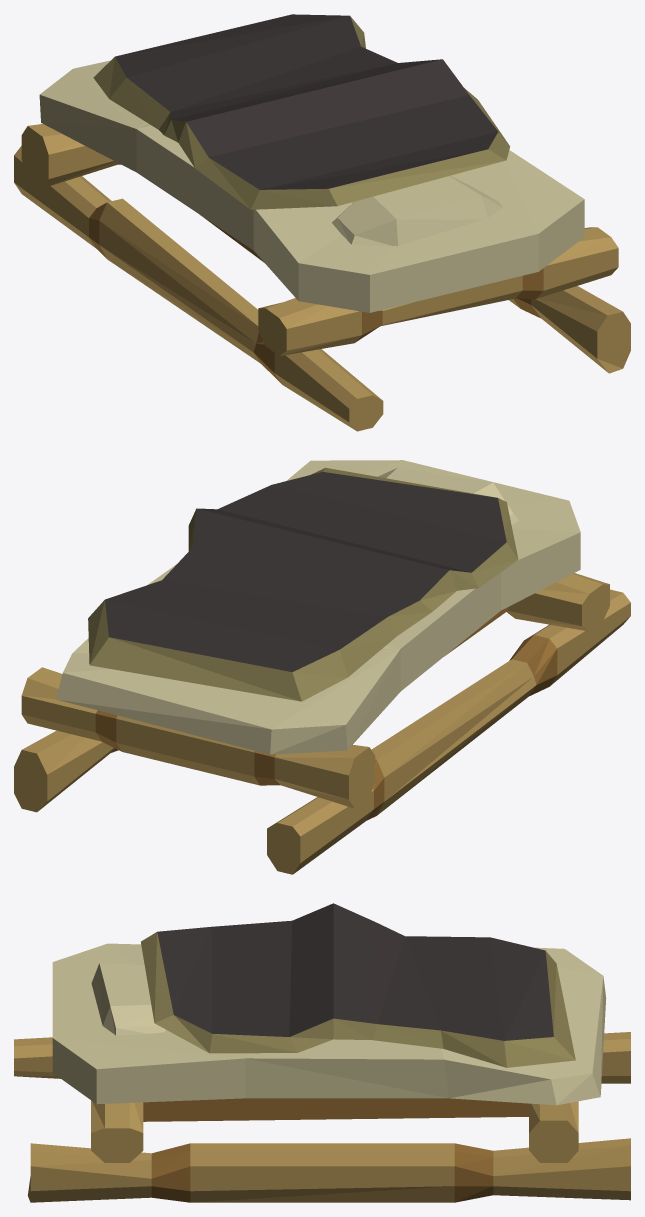
Rendered from obj_bed_17_0.obj.
3 views of the same model, one above another, from view 1: azimuth 30°, elevation 25°; view 2: azimuth 150°, elevation 25°; view 3: azimuth 270°, elevation 25° (orthographic). The views are drawn at different scales.
Bounding box in the file's own units: 1 × 0.5547 × 1.75.
